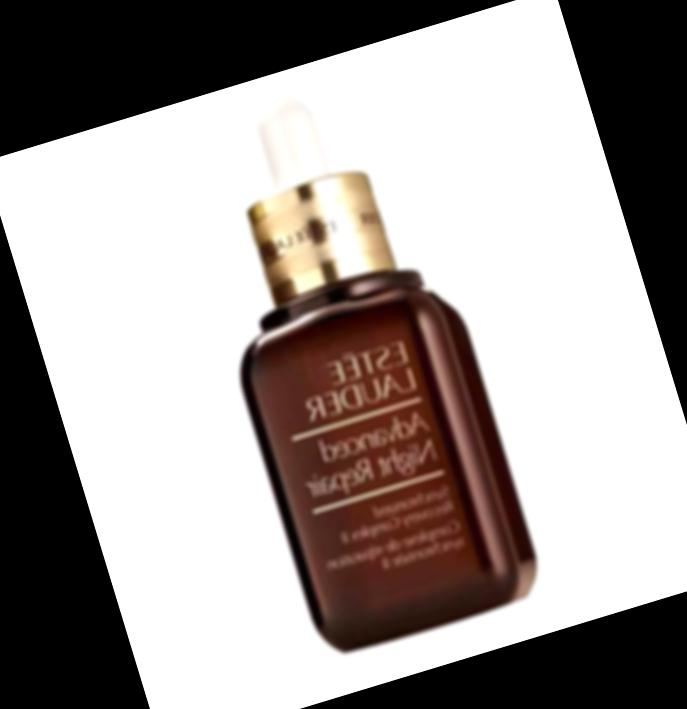cosmetic: (161, 61, 534, 653)
